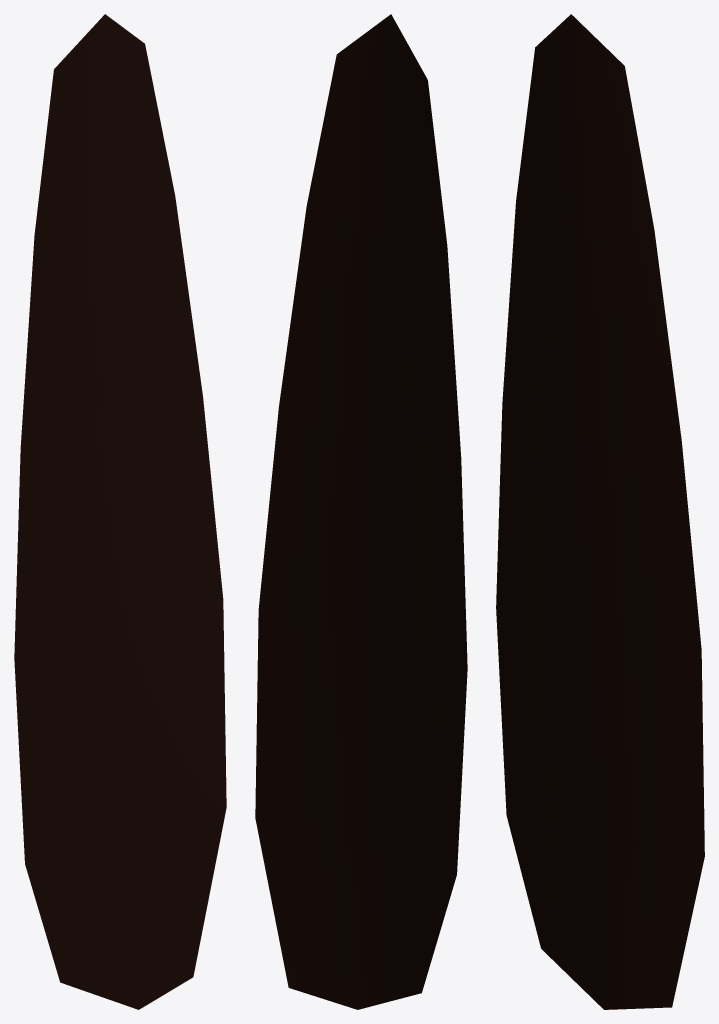
File: finch_feather_flight_secondary_005.obj
3 renders of one model, left to right at view 1: azimuth 30°, elevation 25°; view 2: azimuth 150°, elevation 25°; view 3: azimuth 330°, elevation 25°, orthographic.
Parts seen in each view (by area): view 1: feather_flight_secondary_005; view 2: feather_flight_secondary_005; view 3: feather_flight_secondary_005.
Part boxes in pixels (x1=…): feather_flight_secondary_005: x1=14, y1=14, x2=226, y2=1009; feather_flight_secondary_005: x1=255, y1=14, x2=467, y2=1009; feather_flight_secondary_005: x1=496, y1=14, x2=704, y2=1009.
Bounding box in the file's own units: 0.00569 × 0.0257 × 0.000342.
